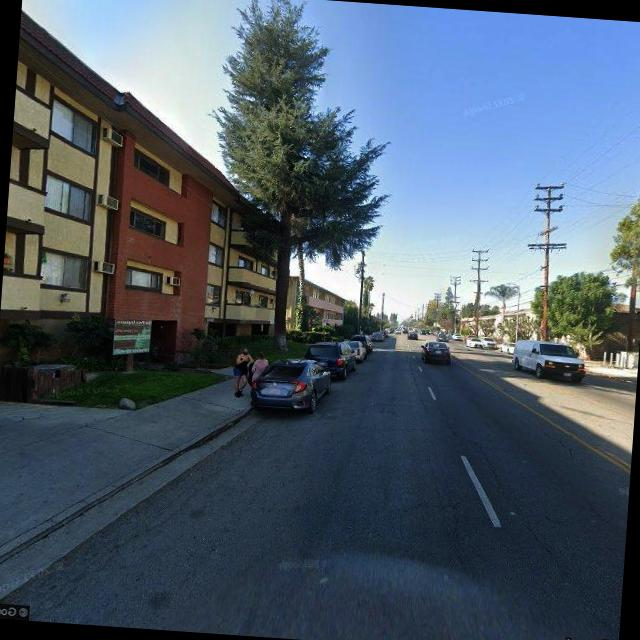crack: (422, 397, 598, 605), (422, 467, 475, 576), (530, 418, 590, 467)
